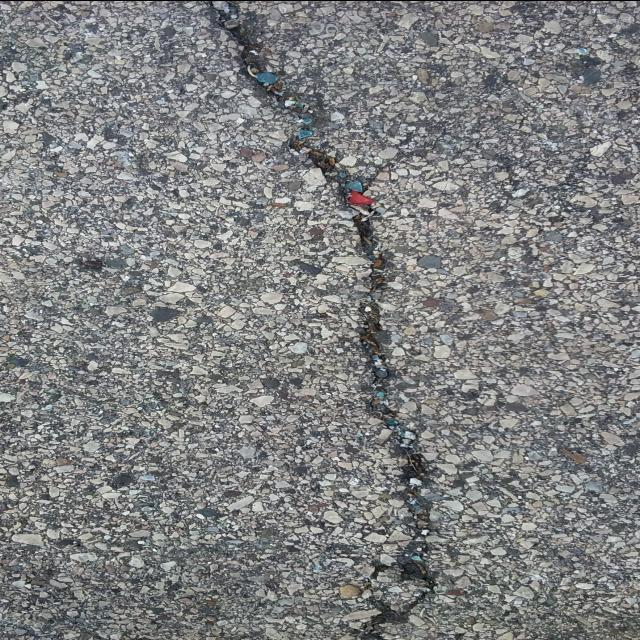Crack: (206, 0, 439, 640)
